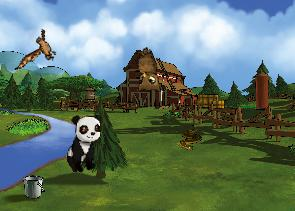eagle: (14, 24, 62, 79)
owl: (123, 45, 166, 99)
panda: (65, 112, 103, 175)
